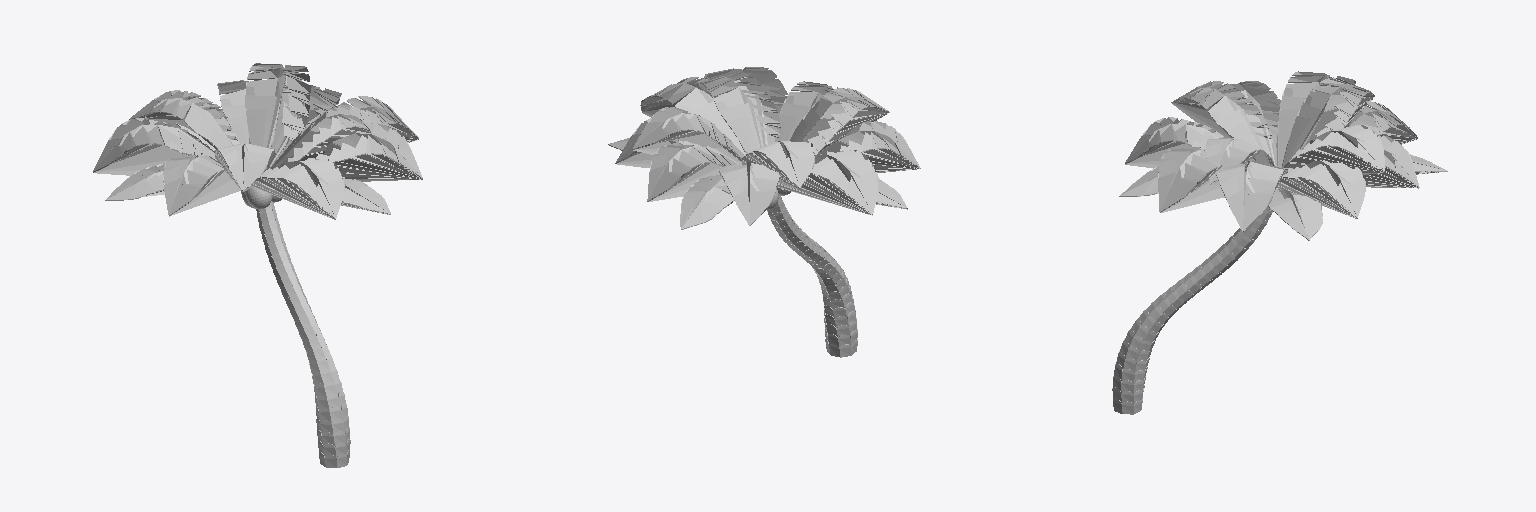
Rendered from low poly palm tree.obj.
3 renders of one model, left to right at view 1: azimuth 30°, elevation 25°; view 2: azimuth 150°, elevation 25°; view 3: azimuth 270°, elevation 25°, orthographic.
Parts seen in each view (by area): view 1: leaves, tronc; view 2: leaves, tronc; view 3: leaves, tronc.
Part boxes in pixels (bbox=[...]): leaves: bbox=[93, 63, 422, 219]; tronc: bbox=[256, 201, 350, 467]; leaves: bbox=[608, 67, 920, 229]; tronc: bbox=[767, 196, 857, 357]; leaves: bbox=[1119, 71, 1447, 240]; tronc: bbox=[1112, 207, 1272, 414].
Size of the model in its own units: 15.7 by 15.63 by 15.64.